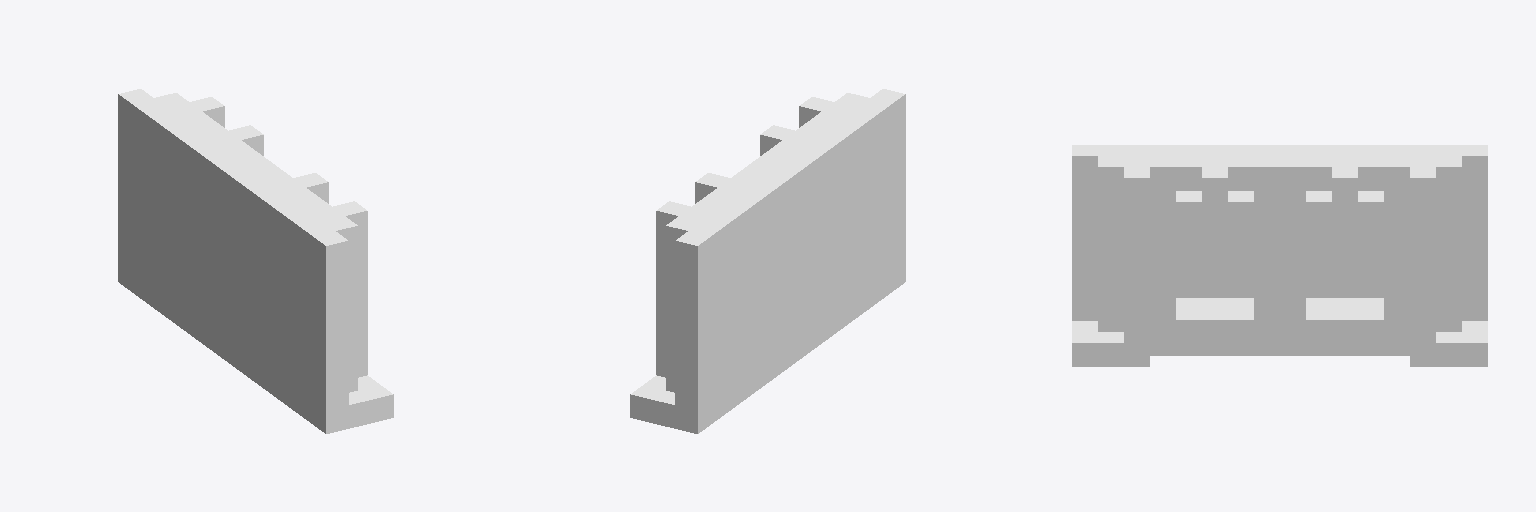
The model's file is towar-10.obj.
The picture shows the model from 3 angles: view 1: azimuth 30°, elevation 25°; view 2: azimuth 150°, elevation 25°; view 3: azimuth 270°, elevation 25°; orthographic projection.
Parts seen in each view (by area): view 1: towar-10; view 2: towar-10; view 3: towar-10.
Boxes of the visible parts, <box> form: towar-10: <box>118,89,393,433</box>; towar-10: <box>630,89,905,433</box>; towar-10: <box>1072,145,1487,366</box>.
Size of the model in its own units: 3 by 8 by 16.